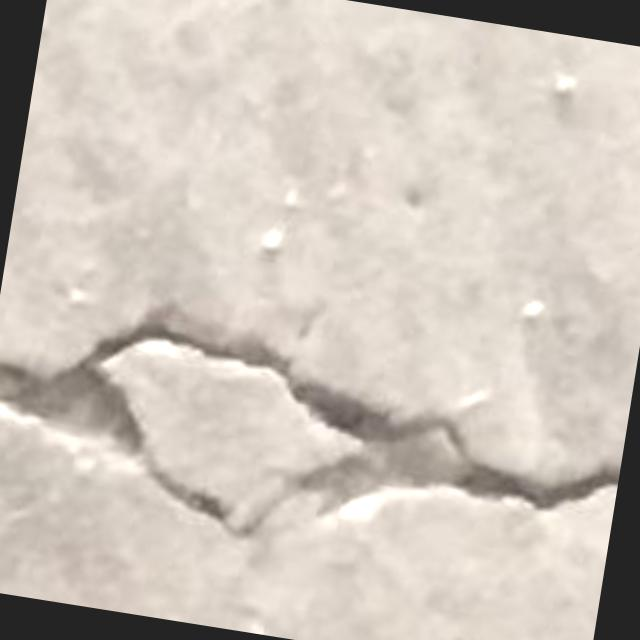crack: (0, 310, 619, 535)
